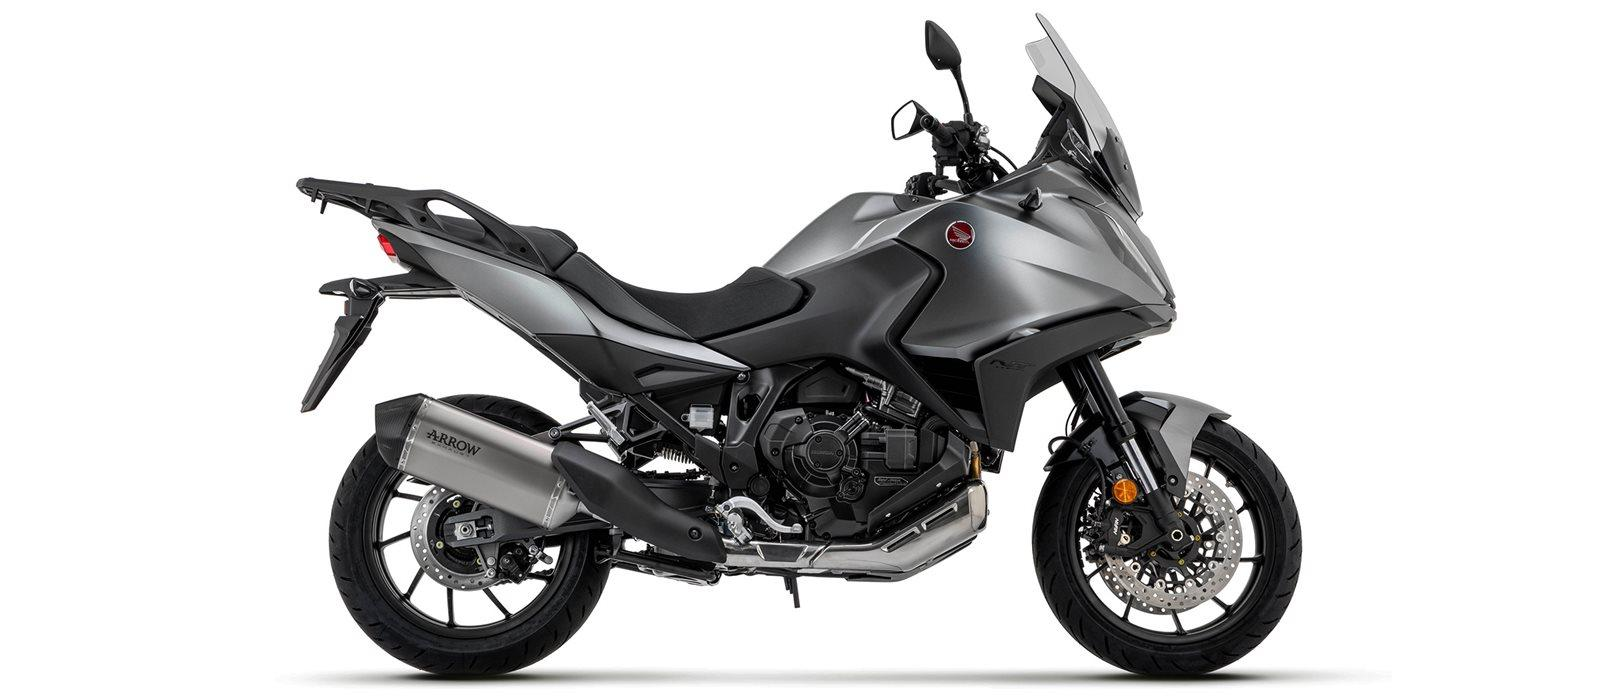engine-chasis: (594, 357, 990, 609)
exhaust: (374, 393, 831, 567), (965, 441, 982, 484)
frontside: (698, 11, 1233, 555)
handlebar: (891, 19, 995, 200), (991, 74, 1091, 184)
motorbike: (297, 14, 1302, 676)
rearside: (296, 177, 829, 523), (444, 508, 612, 548)
seat: (555, 252, 803, 341), (511, 224, 579, 269), (435, 214, 486, 241)
tank: (762, 192, 944, 276)
wheel: (1032, 415, 1302, 677), (329, 432, 612, 676), (1048, 383, 1106, 497), (437, 394, 562, 436), (990, 146, 1018, 170), (986, 154, 1009, 180)
